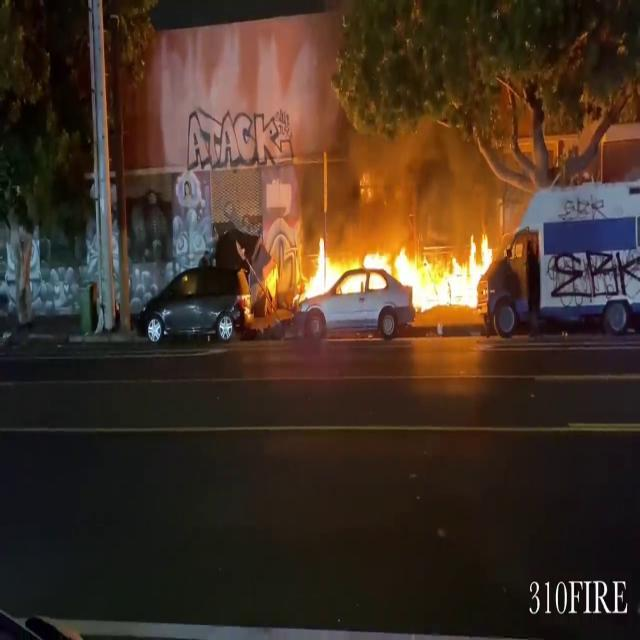Fire: (294, 225, 496, 318)
Smoke: (336, 106, 484, 231)
